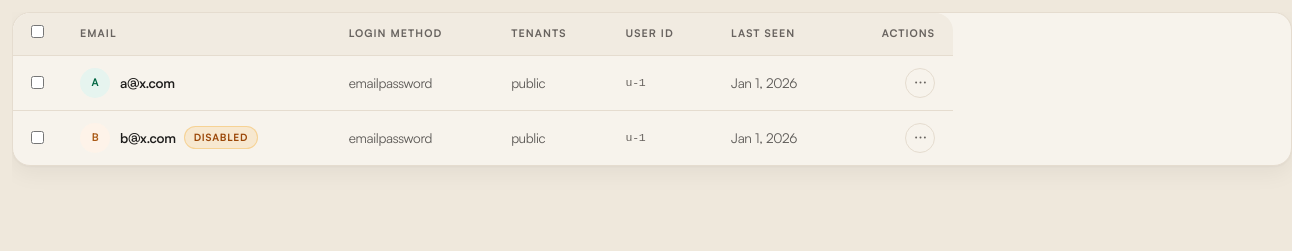
UsersTable › reports what a sweep did, naming skipped and failed only when non-zero
This screenshot has width=1292, height=251.
Click the checkbox named "select all users".
click(38, 32)  # box [31,25,44,38]
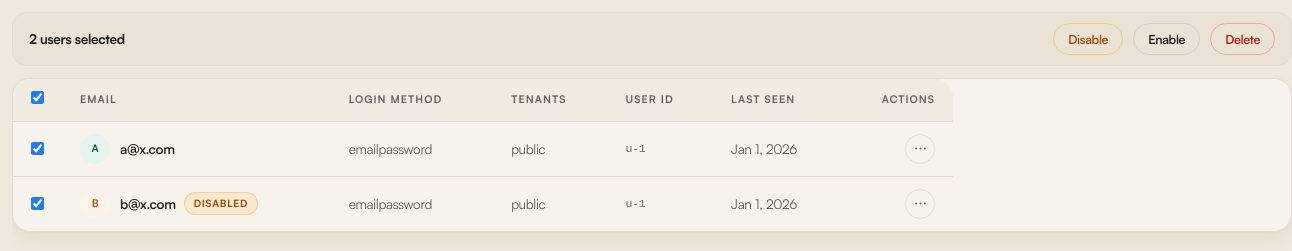
Click the button "Disable".
click(1088, 39)  # box [1053,23,1123,55]
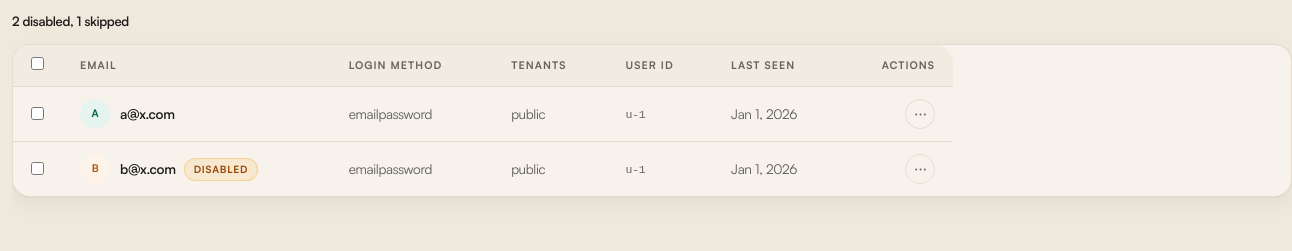
Expected: the message does not show "failed", [12,13,129,29]
Result: the message reads "2 disabled, 1 skipped" at [12,13,129,29]
Result: the text "selected" is gone
